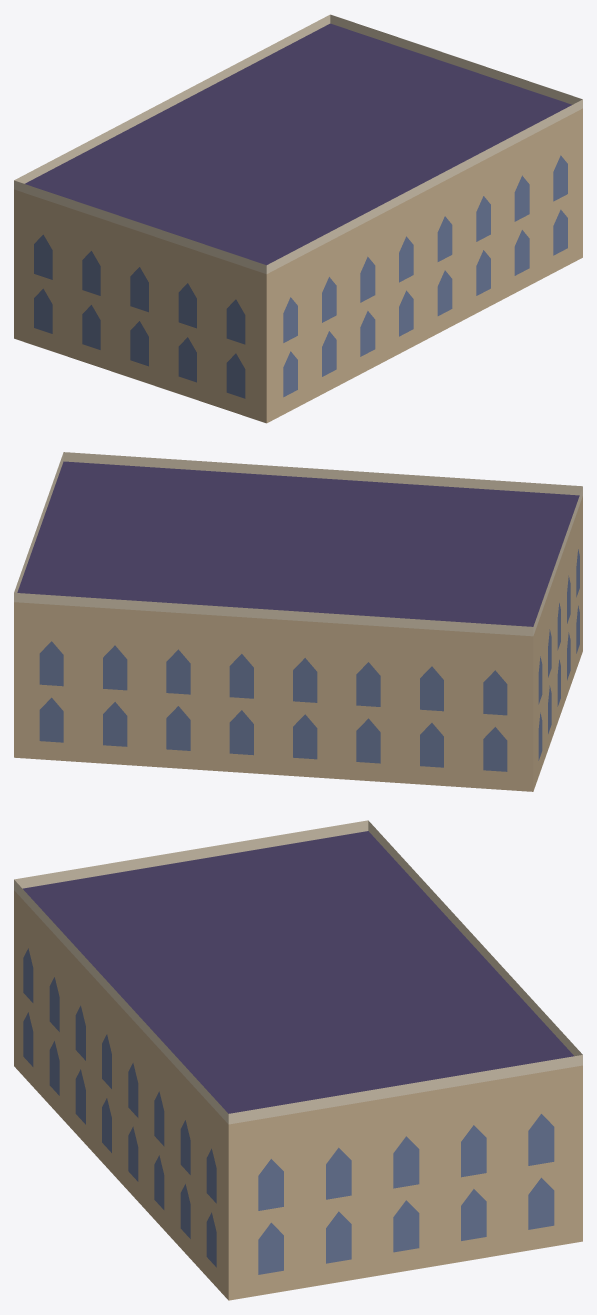
File: b-103-day.glb
3 renders of one model, top to bottom at view 1: azimuth 30°, elevation 25°; view 2: azimuth 150°, elevation 25°; view 3: azimuth 270°, elevation 25°, orthographic. The views are drawn at different scales.
Visible parts, largest first — view 1: campus/b-103-day-0; view 2: campus/b-103-day-0; view 3: campus/b-103-day-0.
Boxes of the visible parts, x1,y1,x2,y2 form: campus/b-103-day-0: (14,14,582,423); campus/b-103-day-0: (14,452,582,791); campus/b-103-day-0: (14,820,582,1300).
Bounding box in the file's own units: 32.53 × 9.65 × 26.65.
